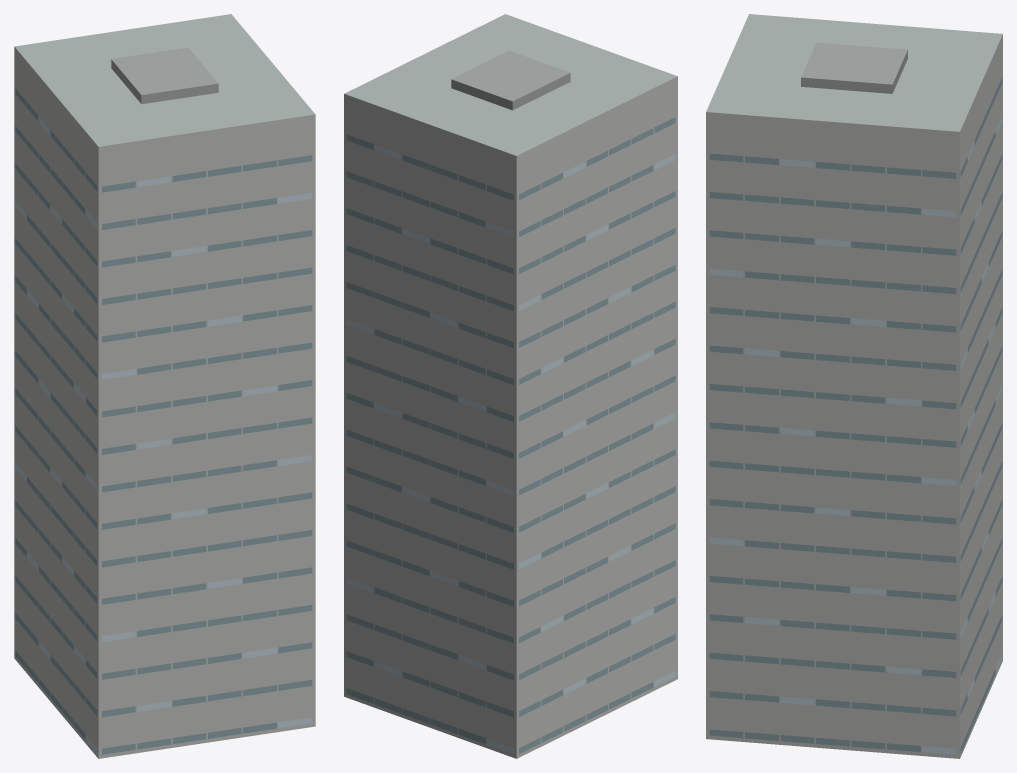
File: apt-a15672002.glb
The picture shows the model from 3 angles, left to right: view 1: azimuth 30°, elevation 25°; view 2: azimuth 150°, elevation 25°; view 3: azimuth 270°, elevation 25°; orthographic projection. The views are drawn at different scales.
Parts seen in each view (by area): view 1: apt-a15672002; view 2: apt-a15672002; view 3: apt-a15672002.
Part boxes in pixels (x1,y1,x2,y2): apt-a15672002: [14, 14, 315, 758]; apt-a15672002: [344, 14, 677, 758]; apt-a15672002: [706, 14, 1002, 758].
Size of the model in its own units: 64.76 by 163 by 68.92.
